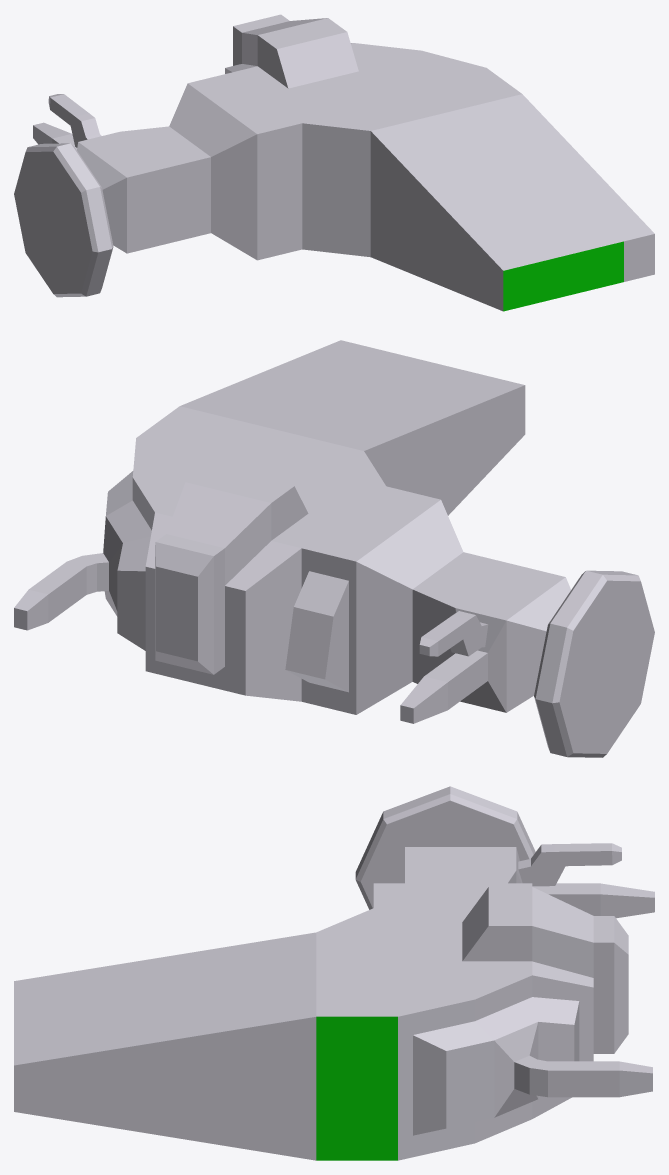
Rendered from Crab face.fbx.
The picture shows the model from 3 angles, top to bottom: view 1: azimuth 30°, elevation 25°; view 2: azimuth 150°, elevation 25°; view 3: azimuth 270°, elevation 25°; orthographic projection. The views are drawn at different scales.
Parts seen in each view (by area): view 1: Crab face; view 2: Crab face; view 3: Crab face.
Boxes of the visible parts, x1,y1,x2,y2 form: Crab face: (14,14,654,311); Crab face: (14,340,654,757); Crab face: (14,786,654,1160).
Size of the model in its own units: 3.15 by 1.3 by 3.72.
